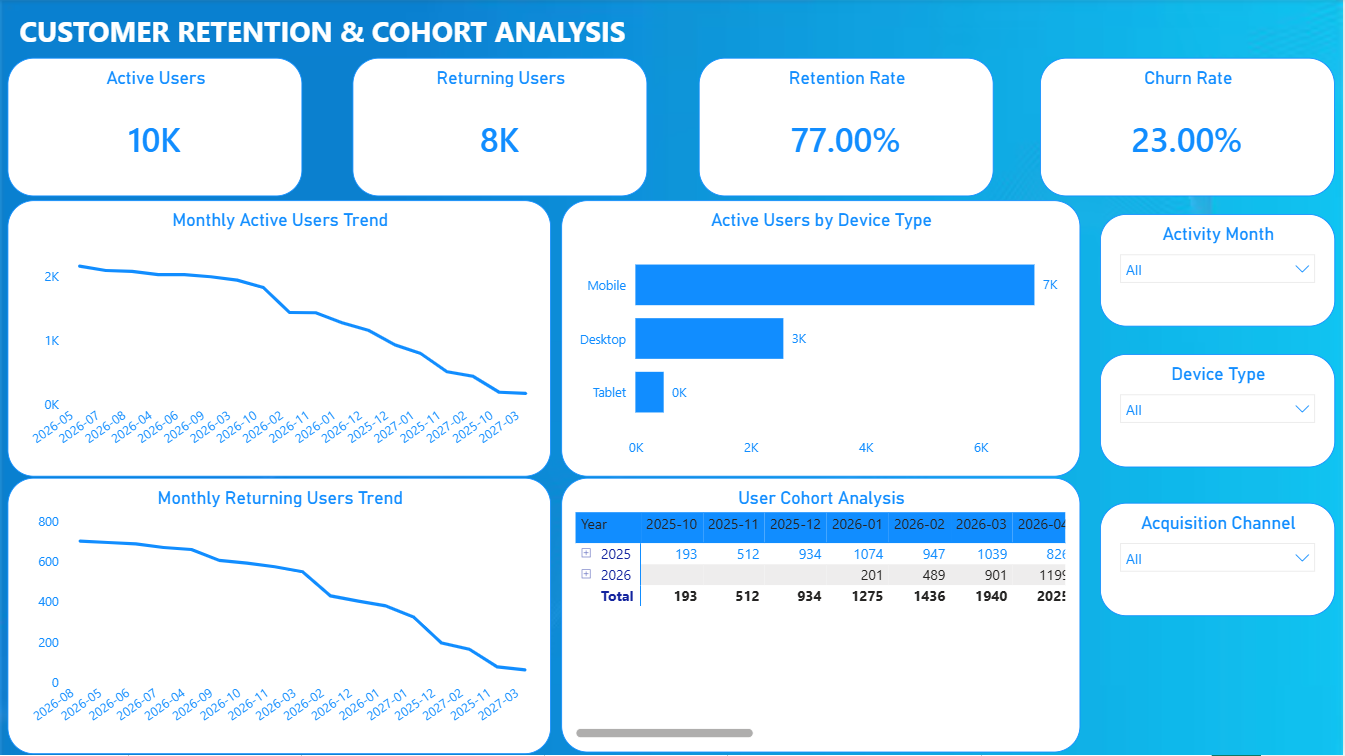

Layout of this report page (visuals, bound fields, positions):
{"tool":"powerbi","page":{"name":"Retention & Cohort Analysis","canvas":[1280,720],"ordinal":2},"visuals":[{"type":"textbox","box":[7.1,7.1,600,48.8],"z":0},{"type":"cardVisual","title":"Active Users","fields":{"Data":["events_cleaned.Monthly Active Users"]},"box":[7.1,56,281,132.1],"z":1000},{"type":"lineChart","title":"Monthly Active Users Trend","fields":{"Category":["events_cleaned.Activity Month"],"Y":["events_cleaned.Monthly Active Users"]},"box":[7.1,191.7,517.9,263.1],"z":2000},{"type":"cardVisual","title":"Returning Users","fields":{"Data":["events_cleaned.Returning Users"]},"box":[335.7,56,281,132.1],"z":3000},{"type":"cardVisual","title":"Retention Rate","fields":{"Data":["events_cleaned.Retention Rate"]},"box":[665.5,56,281,132.1],"z":4000},{"type":"cardVisual","title":"Churn Rate","fields":{"Data":["events_cleaned.Churn Rate"]},"box":[990.5,56,281,132.1],"z":5000},{"type":"lineChart","title":"Monthly Returning Users Trend","fields":{"Category":["events_cleaned.Activity Month"],"Y":["events_cleaned.Monthly Returning Users"]},"box":[7.1,456,517.9,263.1],"z":6000},{"type":"clusteredBarChart","title":"Active Users by Device Type","fields":{"Category":["users_cleaned.device_type"],"Y":["events_cleaned.Monthly Active Users"]},"box":[534.5,191.7,494.1,263.1],"z":7000},{"type":"pivotTable","title":"User Cohort Analysis","fields":{"Rows":["users_cleaned.Signup Month.Variation.Date Hierarchy.Year","users_cleaned.Signup Month.Variation.Date Hierarchy.Quarter","users_cleaned.Signup Month.Variation.Date Hierarchy.Month","users_cleaned.Signup Month.Variation.Date Hierarchy.Day"],"Columns":["events_cleaned.Activity Month"],"Values":["events_cleaned.Monthly Active Users"]},"box":[534.5,456,494.1,261.9],"z":8000},{"type":"slicer","title":"Activity Month","fields":{"Values":["events_cleaned.Activity Month"]},"box":[1047.6,204.8,223.8,107.1],"z":9000},{"type":"slicer","title":"Device Type","fields":{"Values":["users_cleaned.device_type"]},"box":[1047.6,338.1,223.8,108.3],"z":10000},{"type":"slicer","title":"Acquisition Channel","fields":{"Values":["users_cleaned.acquisition_channel"]},"box":[1047.6,479.8,223.8,108.3],"z":11000}]}

Visuals, with their boxes in screenshot pixels (x1, y1, x2, y2), scaled from the page's 1280x720 canvas onto the 1345x756 screenshot:
textbox: detection(7, 7, 638, 59)
"Active Users" cardVisual: detection(7, 59, 303, 198)
"Monthly Active Users Trend" lineChart: detection(7, 201, 552, 478)
"Returning Users" cardVisual: detection(353, 59, 648, 198)
"Retention Rate" cardVisual: detection(699, 59, 995, 198)
"Churn Rate" cardVisual: detection(1041, 59, 1336, 198)
"Monthly Returning Users Trend" lineChart: detection(7, 479, 552, 755)
"Active Users by Device Type" clusteredBarChart: detection(562, 201, 1081, 478)
"User Cohort Analysis" pivotTable: detection(562, 479, 1081, 754)
"Activity Month" slicer: detection(1101, 215, 1336, 327)
"Device Type" slicer: detection(1101, 355, 1336, 469)
"Acquisition Channel" slicer: detection(1101, 504, 1336, 618)
